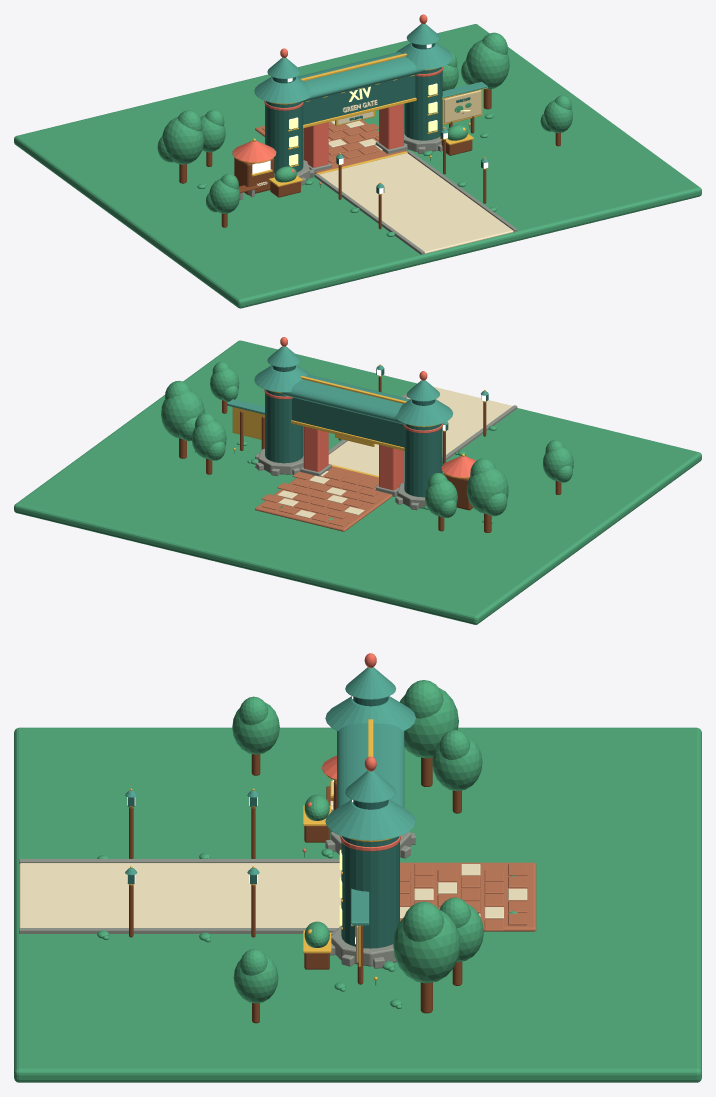
The model's file is GreenGate.fbx.
The picture shows the model from 3 angles, top to bottom: view 1: azimuth 30°, elevation 25°; view 2: azimuth 150°, elevation 25°; view 3: azimuth 270°, elevation 25°; orthographic projection. The views are drawn at different scales.
Visible parts, largest first — view 1: Park Lawn, Outside Concrete Path, Patina Vault Roof, Gate Header, Gate Tower.001, Gate Tower, Tree Crown.003, Tree Crown, Patina Roof Tier One, Left Arch Support, Right Arch Support, Inside Brick Path (+11 smaller); view 2: Park Lawn, Outside Concrete Path, Patina Vault Roof, Gate Header, Inside Brick Path, Gate Tower, Gate Tower.001, Tree Crown.003, Tree Crown, Patina Roof Tier One, Right Arch Support, Left Arch Support (+12 smaller); view 3: Park Lawn, Outside Concrete Path, Gate Tower.001, Patina Vault Roof, Inside Brick Path, Tree Crown.003, Patina Roof Tier One.001, Patina Roof Tier One, Tree Crown, Concrete Curb Right, Tree Crown.001, Tree Crown.004 (+11 smaller).
Boxes of the visible parts, x1,y1,x2,y2 form: Park Lawn: (14,24,701,308); Outside Concrete Path: (319,153,513,253); Patina Vault Roof: (297,52,425,102); Gate Header: (303,76,415,124); Gate Tower.001: (404,67,442,140); Gate Tower: (265,101,303,173); Tree Crown.003: (466,40,509,89); Tree Crown: (162,117,203,164); Patina Roof Tier One: (254,76,312,103); Left Arch Support: (303,122,328,167); Right Arch Support: (379,104,403,149); Inside Brick Path: (255,120,405,173); Park Lawn: (14,340,701,624); Outside Concrete Path: (328,386,512,481); Patina Vault Roof: (282,374,410,424); Gate Header: (292,397,404,447); Inside Brick Path: (255,466,392,531); Gate Tower: (404,423,442,497); Gate Tower.001: (265,389,303,463); Tree Crown.003: (161,390,204,438); Tree Crown: (466,468,508,513); Patina Roof Tier One: (395,399,453,426); Right Arch Support: (303,426,328,471); Left Arch Support: (379,445,403,490); Park Lawn: (14,727,701,1082); Outside Concrete Path: (19,863,341,927); Gate Tower.001: (341,836,399,948); Patina Vault Roof: (337,723,404,807); Inside Brick Path: (400,862,536,931); Tree Crown.003: (393,909,460,983); Patina Roof Tier One.001: (325,799,415,840); Patina Roof Tier One: (325,696,415,731); Tree Crown: (400,687,458,758); Concrete Curb Right: (19,928,338,933); Tree Crown.001: (432,736,482,791); Tree Crown.004: (232,702,279,754).
Size of the model in its own units: 32 by 8.96 by 27.
